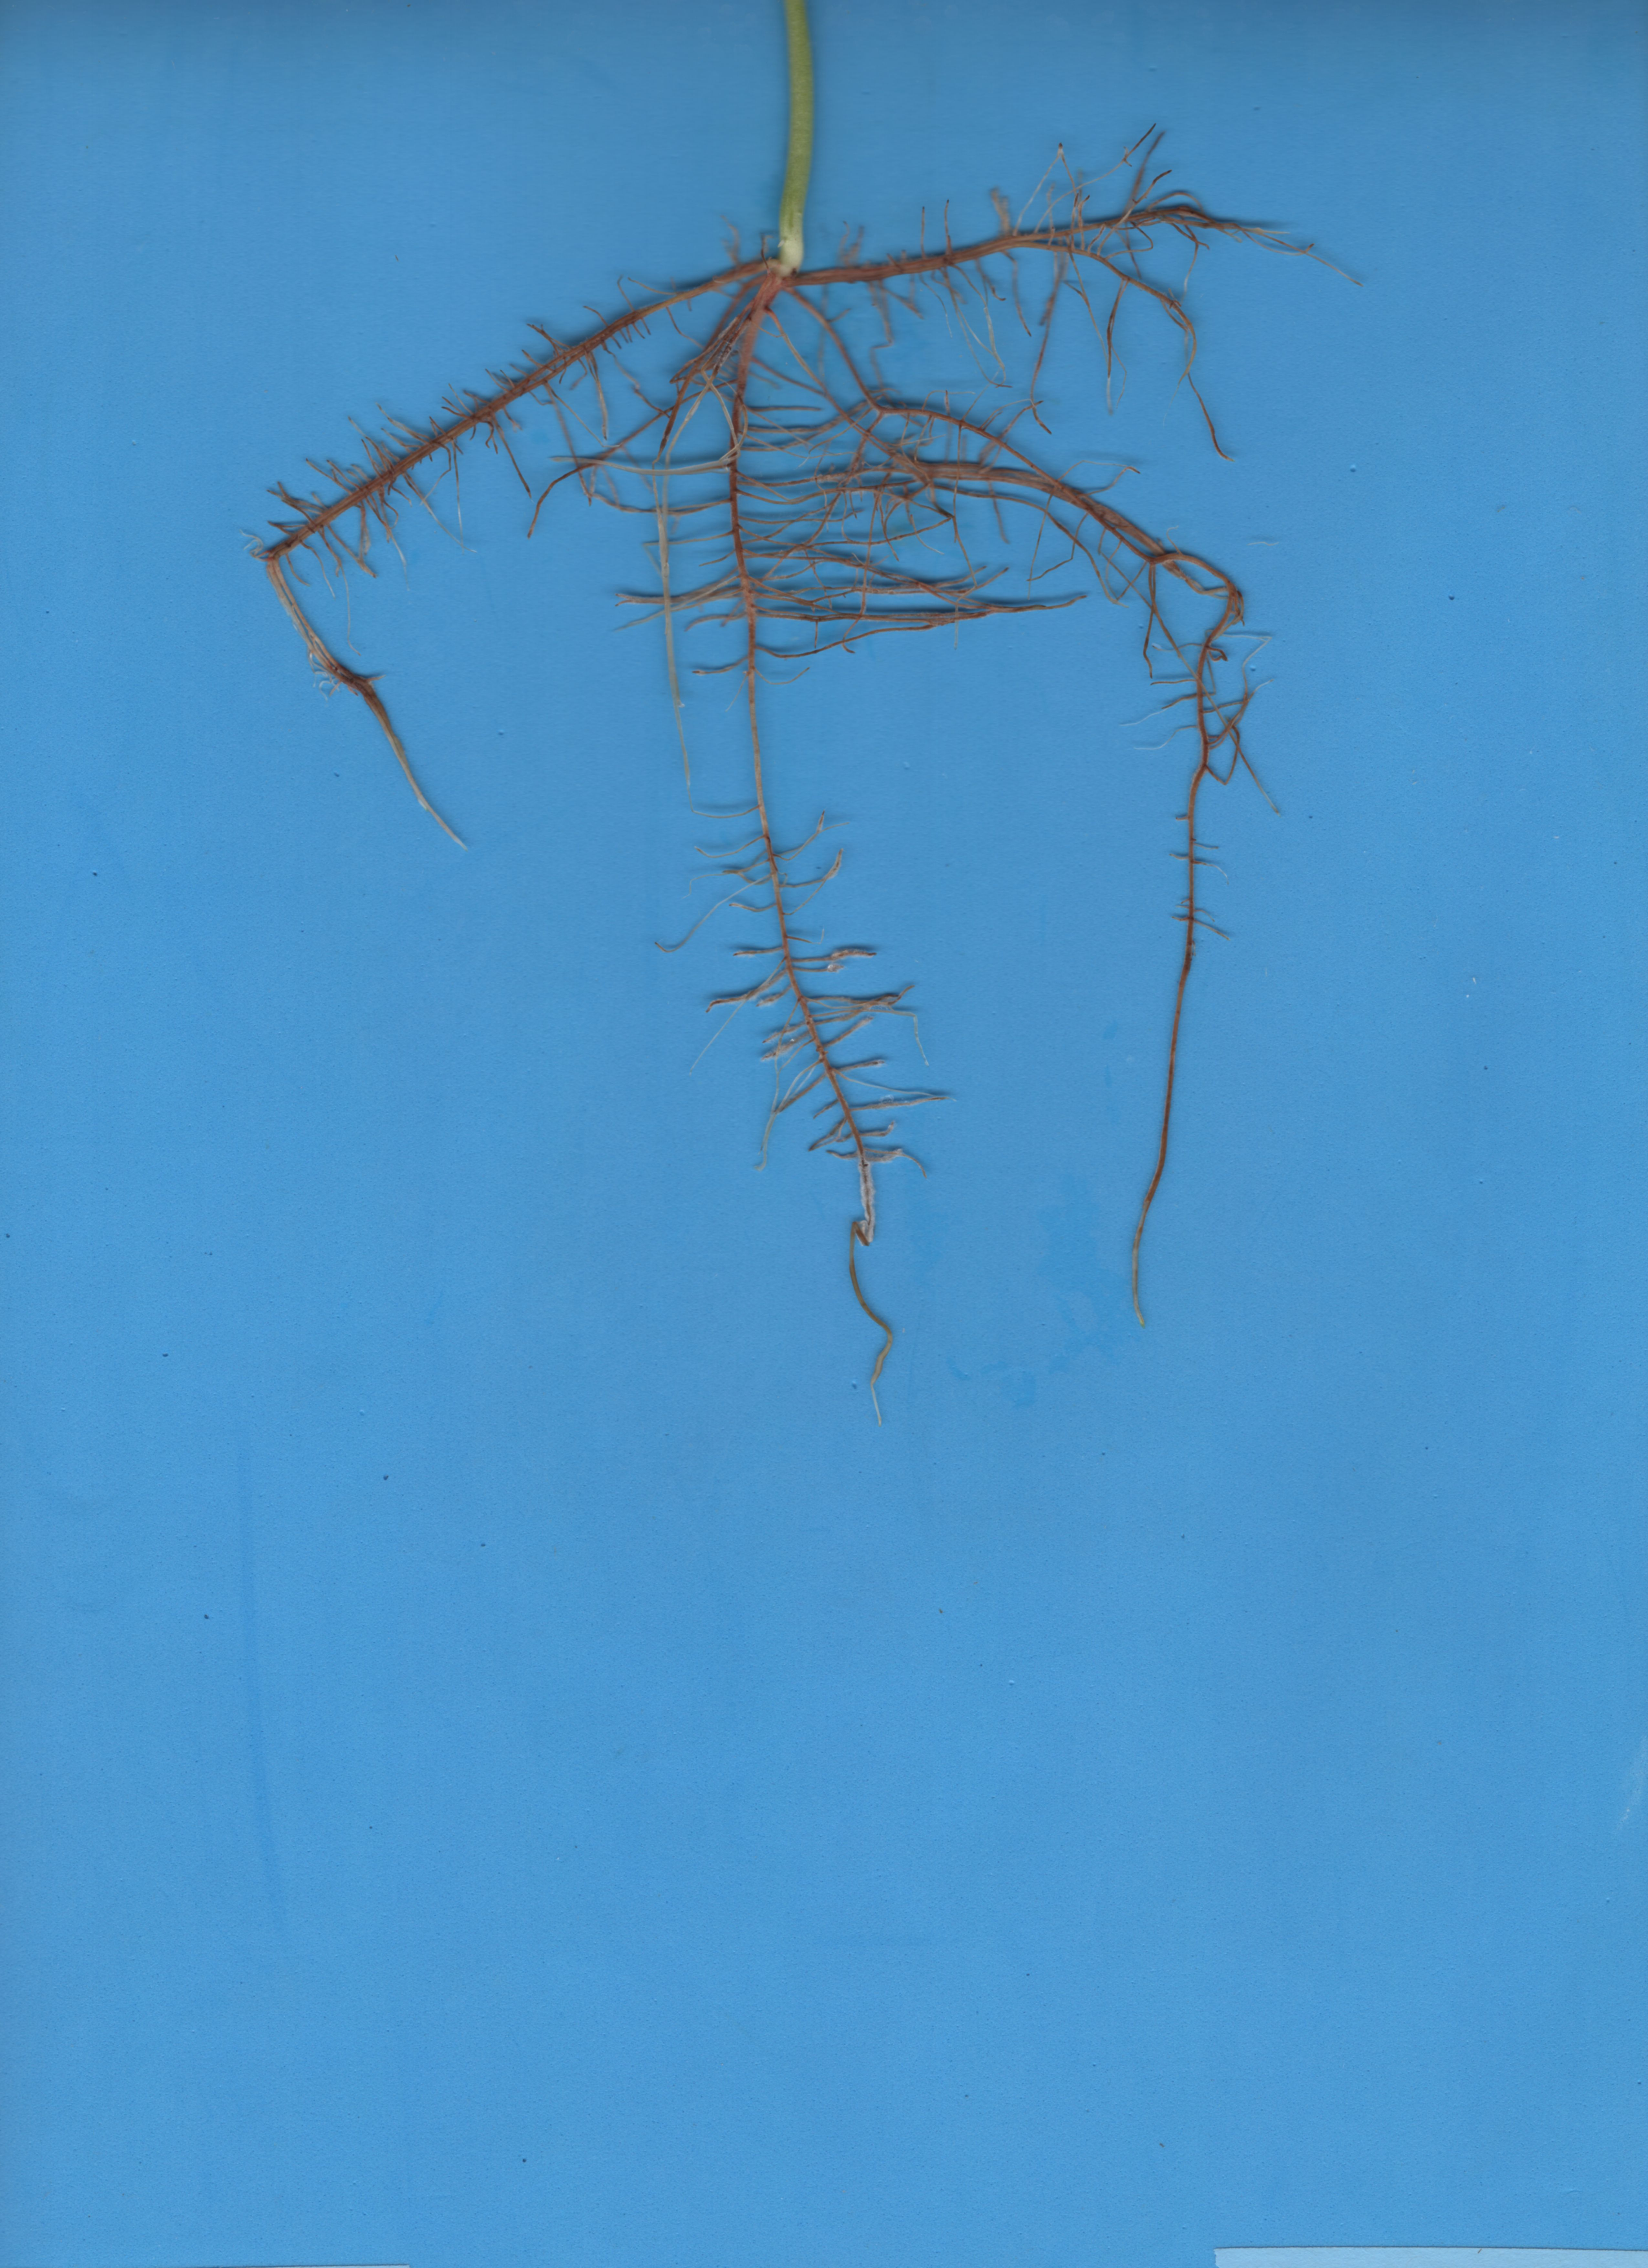CROWNGOOD: (722, 5, 854, 312)
ROOTDISEASE: (114, 158, 1482, 1405)
